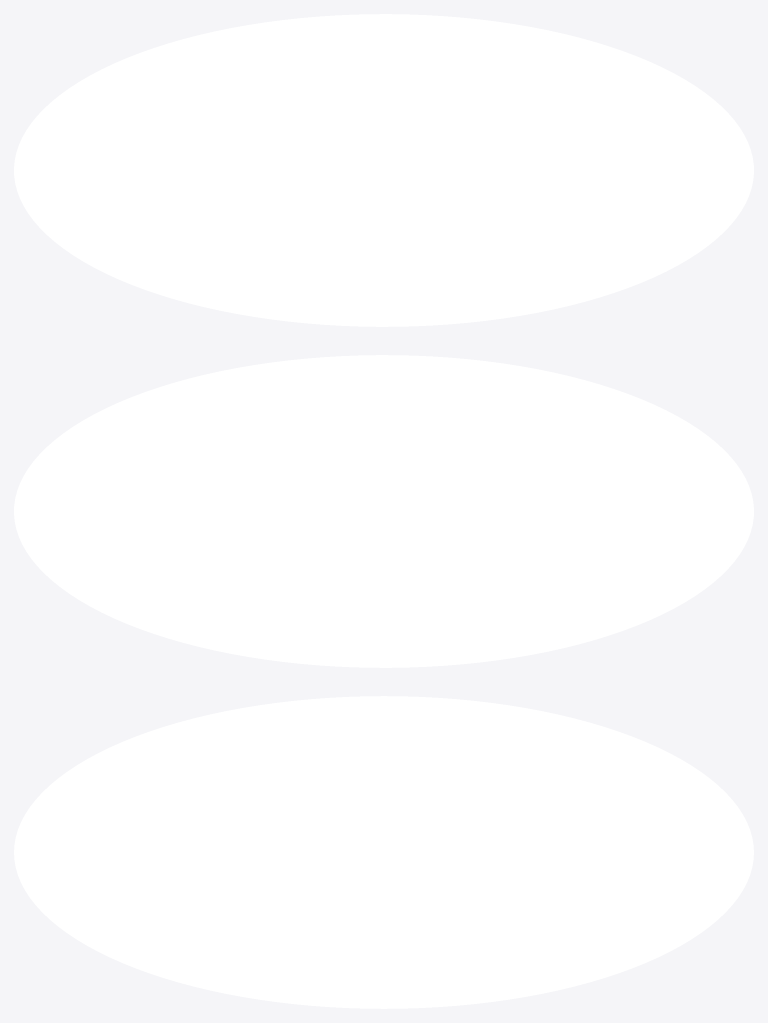
The model's file is Ocean Ripples.glb.
The picture shows the model from 3 angles, top to bottom: view 1: azimuth 30°, elevation 25°; view 2: azimuth 150°, elevation 25°; view 3: azimuth 270°, elevation 25°; orthographic projection.
Visible parts, largest first — view 1: ocean; view 2: ocean; view 3: ocean.
Boxes of the visible parts, x1,y1,x2,y2 form: ocean: [14, 14, 753, 326]; ocean: [14, 355, 753, 667]; ocean: [14, 696, 753, 1008].
Bounding box in the file's own units: 1240 × 0 × 1240.
1 material, 1 textured.
